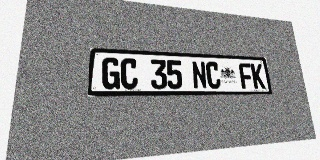3: (150, 59, 167, 89)
5: (166, 60, 183, 89)
C: (120, 58, 138, 89), (205, 61, 221, 89)
F: (238, 63, 254, 89)
G: (101, 57, 120, 89)
K: (250, 63, 265, 89)
N: (191, 61, 207, 89)
